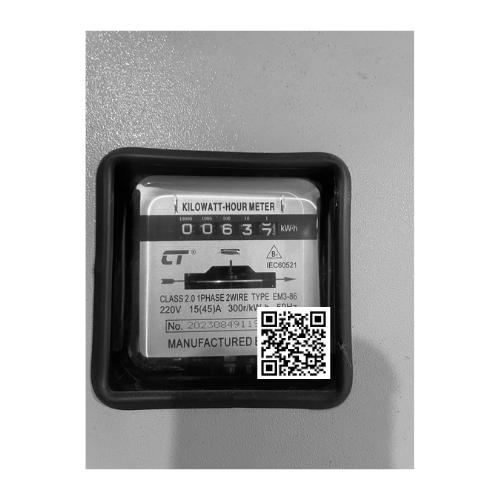qr_code: (259, 309, 331, 379)
